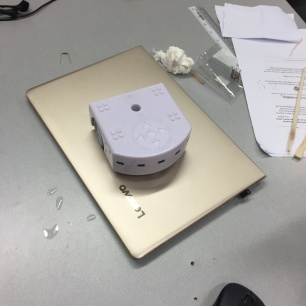thymio: (88, 78, 195, 181)
